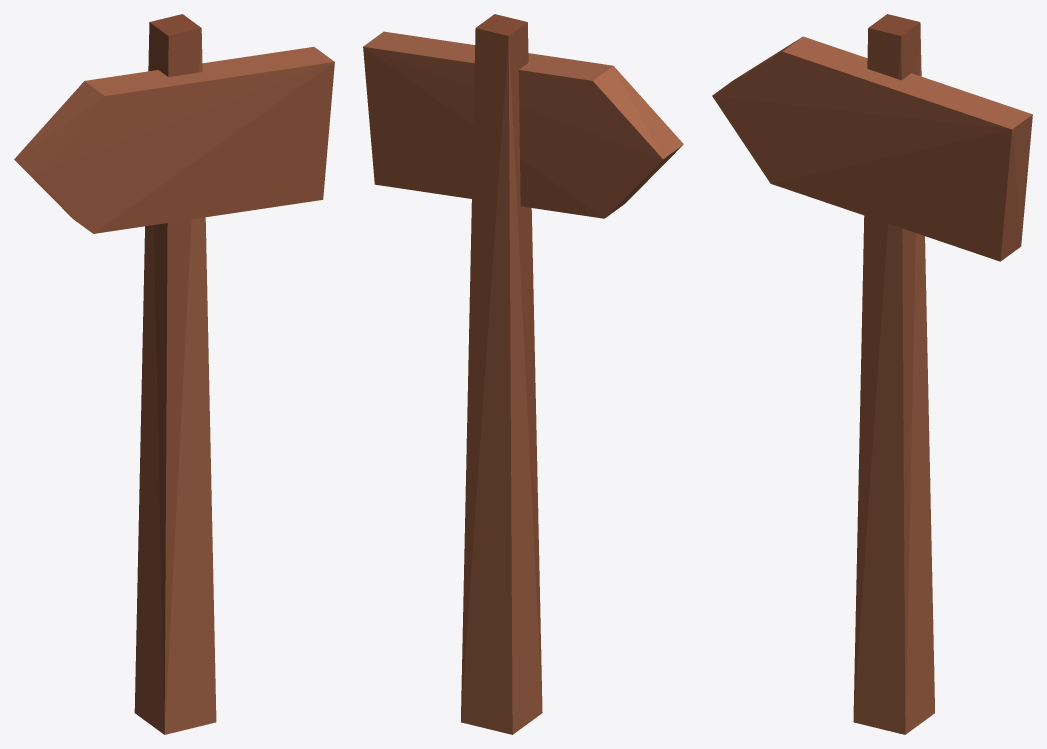
File: survival_signpost_single.glb
3 views of the same model, side by side, from view 1: azimuth 30°, elevation 25°; view 2: azimuth 150°, elevation 25°; view 3: azimuth 330°, elevation 25° (orthographic).
Visible parts, largest first — view 1: survival_signpost_single; view 2: survival_signpost_single; view 3: survival_signpost_single.
Part boxes in pixels (box(x1,y1,x2,y2)): survival_signpost_single: box(14, 14, 334, 734); survival_signpost_single: box(363, 14, 683, 734); survival_signpost_single: box(712, 14, 1032, 734).
Bounding box in the file's own units: 0.2086 × 0.4601 × 0.043.
